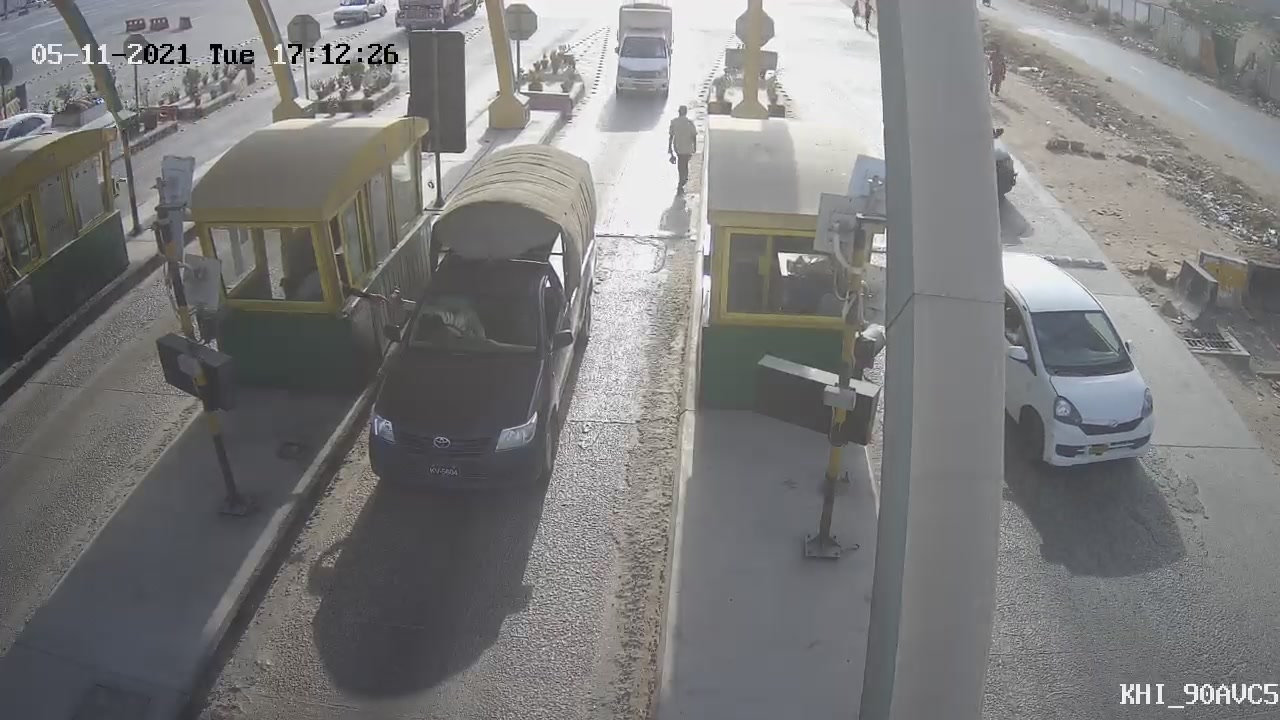F1: (350, 121, 633, 525)
